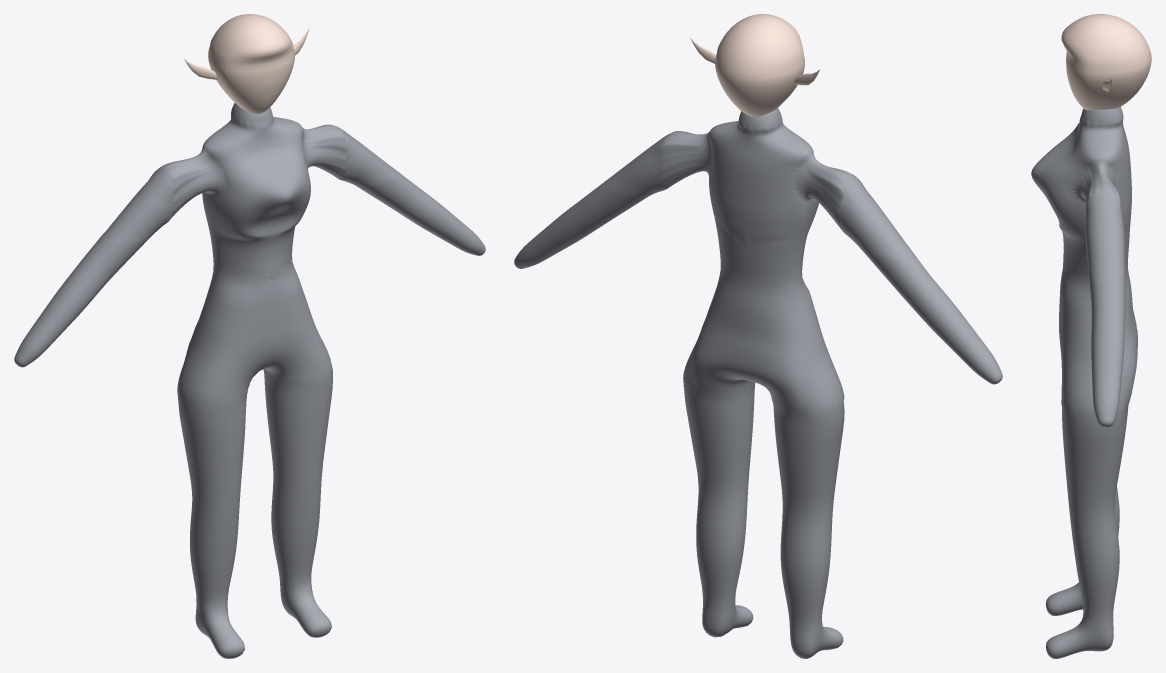
File: body-test2.glb
3 views of the same model, side by side, from view 1: azimuth 30°, elevation 25°; view 2: azimuth 150°, elevation 25°; view 3: azimuth 270°, elevation 25° (orthographic). The views are drawn at different scales.
Parts seen in each view (by area): view 1: emilia_v3_test_body, locked_context_emilia_head; view 2: emilia_v3_test_body, locked_context_emilia_head; view 3: emilia_v3_test_body, locked_context_emilia_head.
Boxes of the visible parts, x1,y1,x2,y2 form: emilia_v3_test_body: (14,103,485,658); locked_context_emilia_head: (208,14,294,113); emilia_v3_test_body: (514,108,1002,658); locked_context_emilia_head: (715,14,804,116); emilia_v3_test_body: (1031,107,1137,658); locked_context_emilia_head: (1061,14,1151,110).
Size of the model in its own units: 1.31 by 1.63 by 0.2887.
